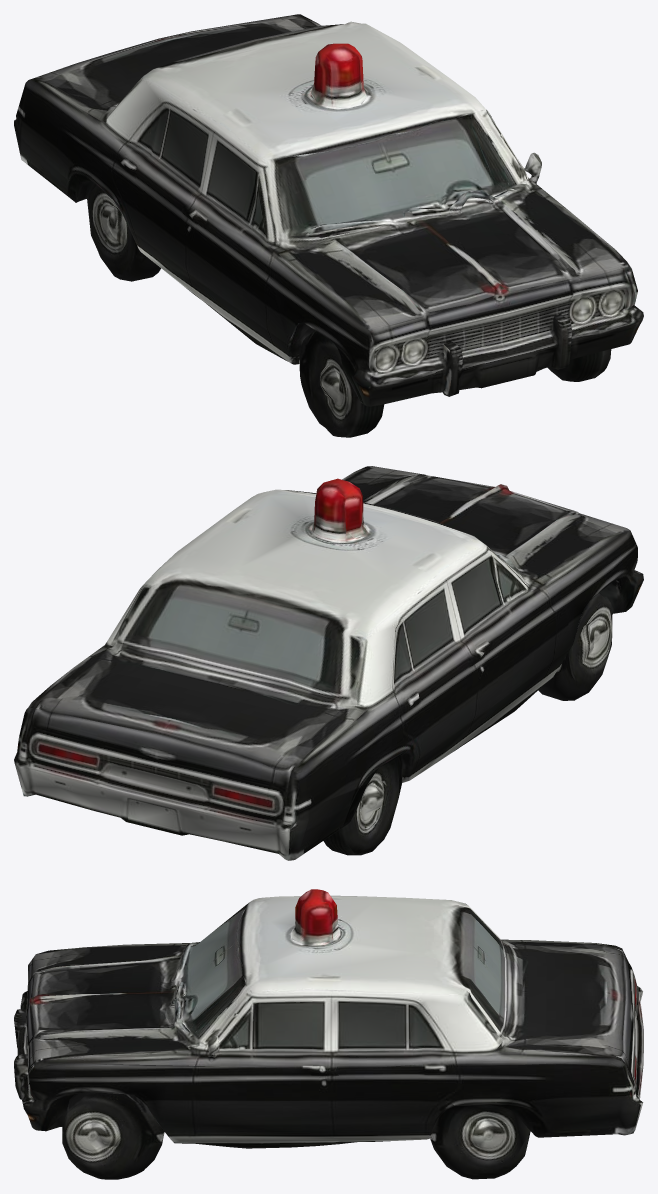
The model's file is police_64.glb.
3 views of the same model, one above another, from view 1: azimuth 30°, elevation 25°; view 2: azimuth 150°, elevation 25°; view 3: azimuth 270°, elevation 25° (orthographic). The views are drawn at different scales.
Parts seen in each view (by area): view 1: textured; view 2: textured; view 3: textured.
Boxes of the visible parts, x1,y1,x2,y2 form: textured: (14,14,643,437); textured: (14,466,643,860); textured: (14,889,643,1179).
Bounding box in the file's own units: 0.9314 × 0.8275 × 1.99.
1 material, 1 textured.
